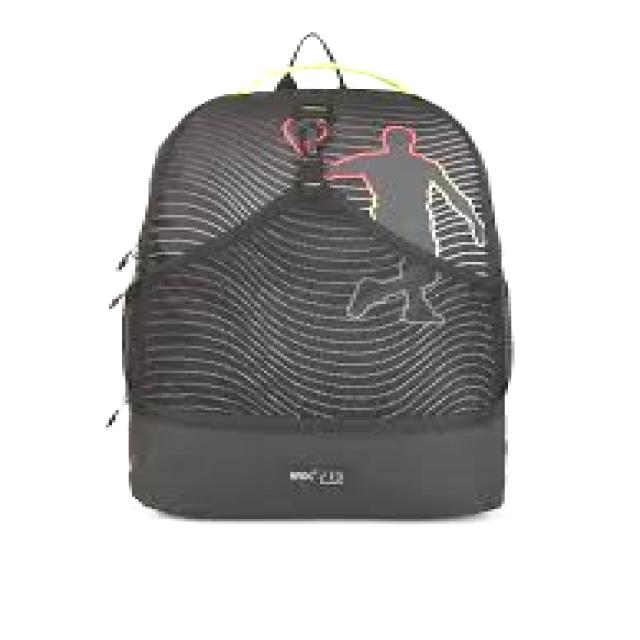backpack: (107, 31, 513, 521)
